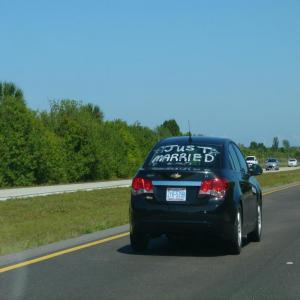Vehicle-registration-plate: (167, 189, 186, 202)
